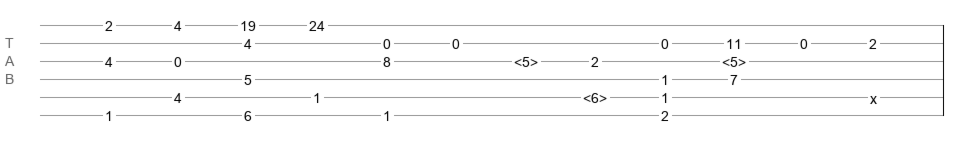0: (174, 54, 182, 64), (383, 36, 391, 46), (452, 36, 460, 46), (661, 36, 669, 46), (800, 36, 808, 46)
1: (105, 108, 113, 118), (313, 90, 321, 100), (383, 108, 391, 118), (661, 90, 669, 100), (661, 72, 669, 82)
11: (726, 36, 742, 46)
19: (240, 18, 256, 28)
2: (105, 18, 113, 28), (591, 54, 599, 64), (661, 108, 669, 118), (869, 36, 877, 46)
24: (309, 18, 325, 28)
4: (105, 54, 113, 64), (174, 90, 182, 100), (174, 18, 182, 28), (244, 36, 252, 46)
5: (244, 72, 252, 82)
6: (244, 108, 252, 118)
7: (730, 72, 738, 82)
8: (383, 54, 391, 64)
harmonic: (514, 54, 538, 64), (583, 90, 607, 100), (722, 54, 746, 64)
x: (870, 91, 877, 99)
